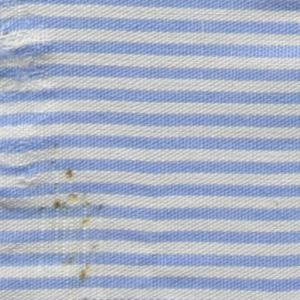Damage: (1, 5, 60, 262)
Oil Stain: (51, 167, 100, 286)
